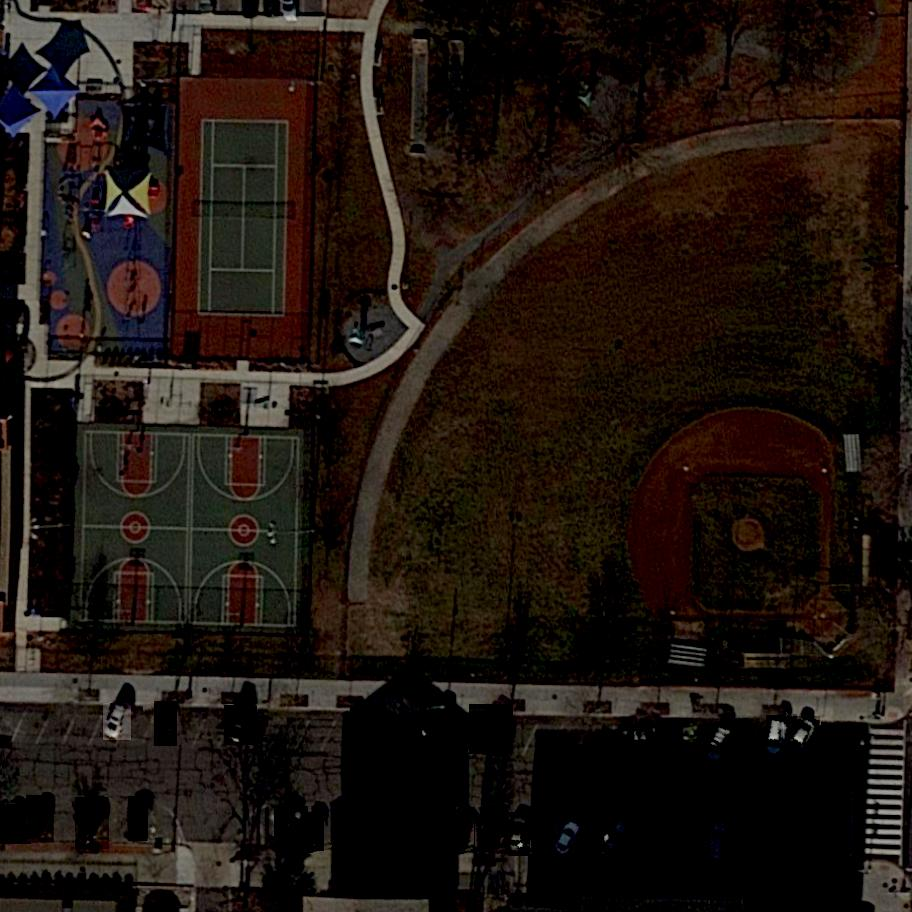small-vehicle: (469, 705, 513, 755), (76, 797, 112, 849), (784, 716, 822, 759), (597, 821, 633, 863), (274, 806, 309, 848), (421, 711, 452, 758), (26, 796, 56, 844), (703, 722, 737, 764), (350, 709, 383, 752), (224, 705, 257, 747), (702, 822, 731, 869), (0, 804, 31, 846), (552, 821, 584, 860), (483, 805, 509, 850), (450, 807, 475, 853), (103, 704, 132, 742), (618, 725, 662, 749), (381, 808, 405, 850), (155, 701, 177, 746), (507, 812, 530, 855), (128, 796, 149, 843), (767, 715, 790, 756), (357, 808, 378, 851), (304, 812, 325, 851)
